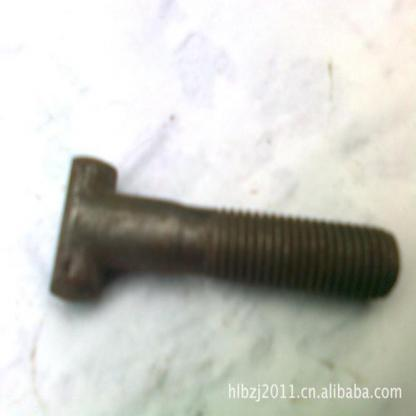FOD: (48, 152, 400, 315)
